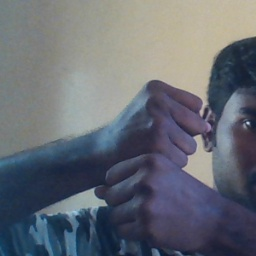G: (102, 77, 212, 248)
